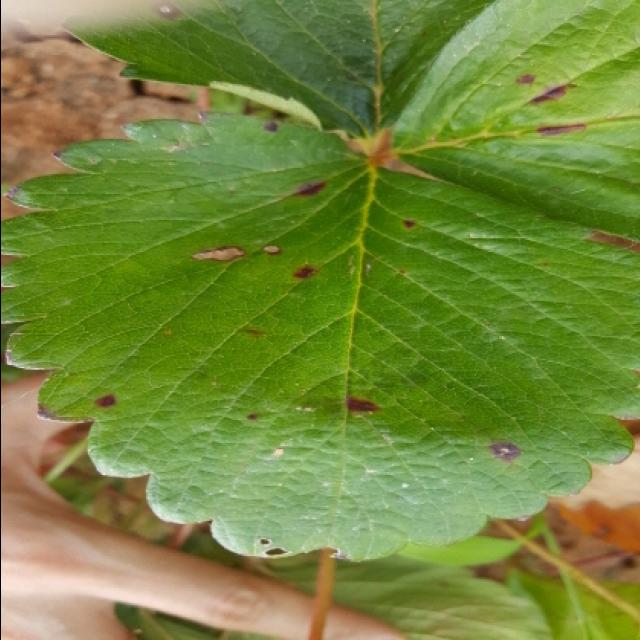Leaf Spot: (2, 108, 640, 562), (56, 2, 495, 149), (392, 2, 640, 244)
